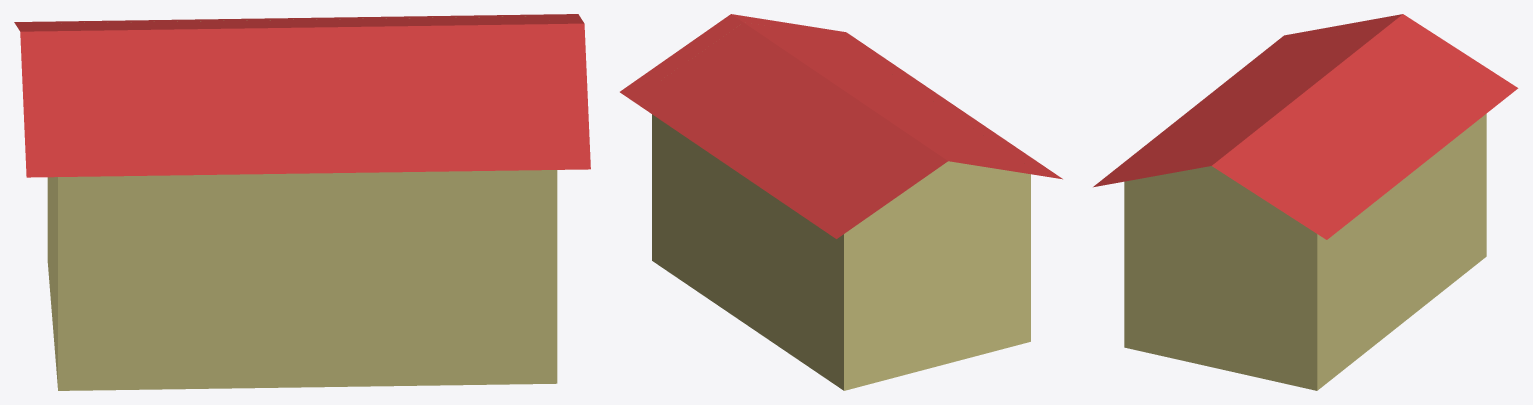
3 views of the same model, side by side, from view 1: azimuth 30°, elevation 25°; view 2: azimuth 150°, elevation 25°; view 3: azimuth 270°, elevation 25° (orthographic). The views are drawn at different scales.
Bounding box in the file's own units: 15.42 × 13.56 × 7.46.
